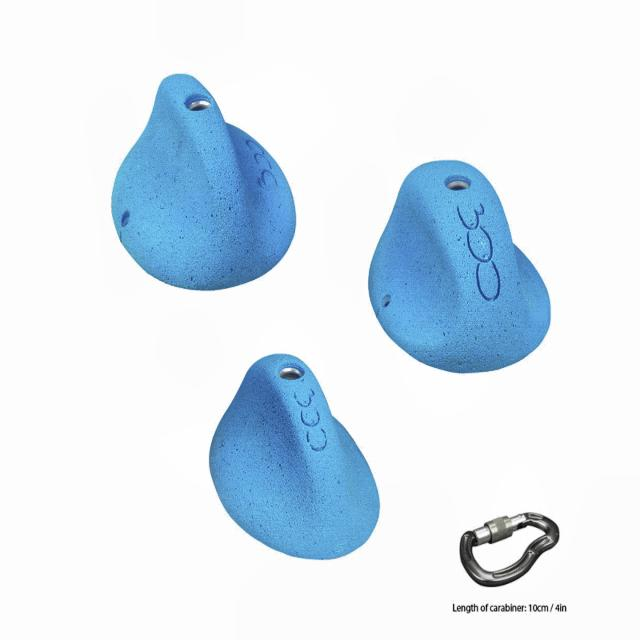Hold: (109, 74, 303, 292), (361, 155, 555, 373), (206, 358, 380, 560)
